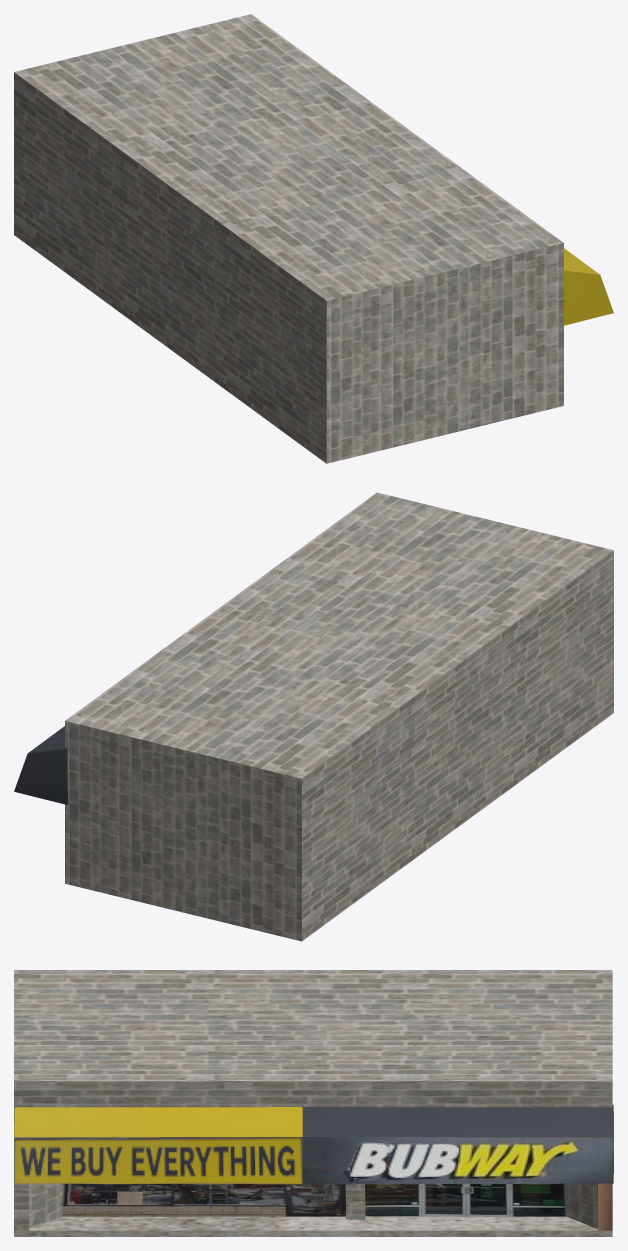
Rendered from storefrontbuilding.fbx.
3 renders of one model, top to bottom at view 1: azimuth 30°, elevation 25°; view 2: azimuth 150°, elevation 25°; view 3: azimuth 270°, elevation 25°, orthographic. The views are drawn at different scales.
Parts seen in each view (by area): view 1: Cube, Plane; view 2: Cube, Plane; view 3: Cube, Plane.
Boxes of the visible parts, bbox=[...] form: Cube: bbox=[14, 14, 563, 463]; Plane: bbox=[564, 248, 613, 325]; Cube: bbox=[65, 492, 613, 941]; Plane: bbox=[14, 726, 68, 804]; Cube: bbox=[14, 970, 612, 1236]; Plane: bbox=[14, 1104, 613, 1184].
Bounding box in the file's own units: 3553 × 1920 × 6689.
